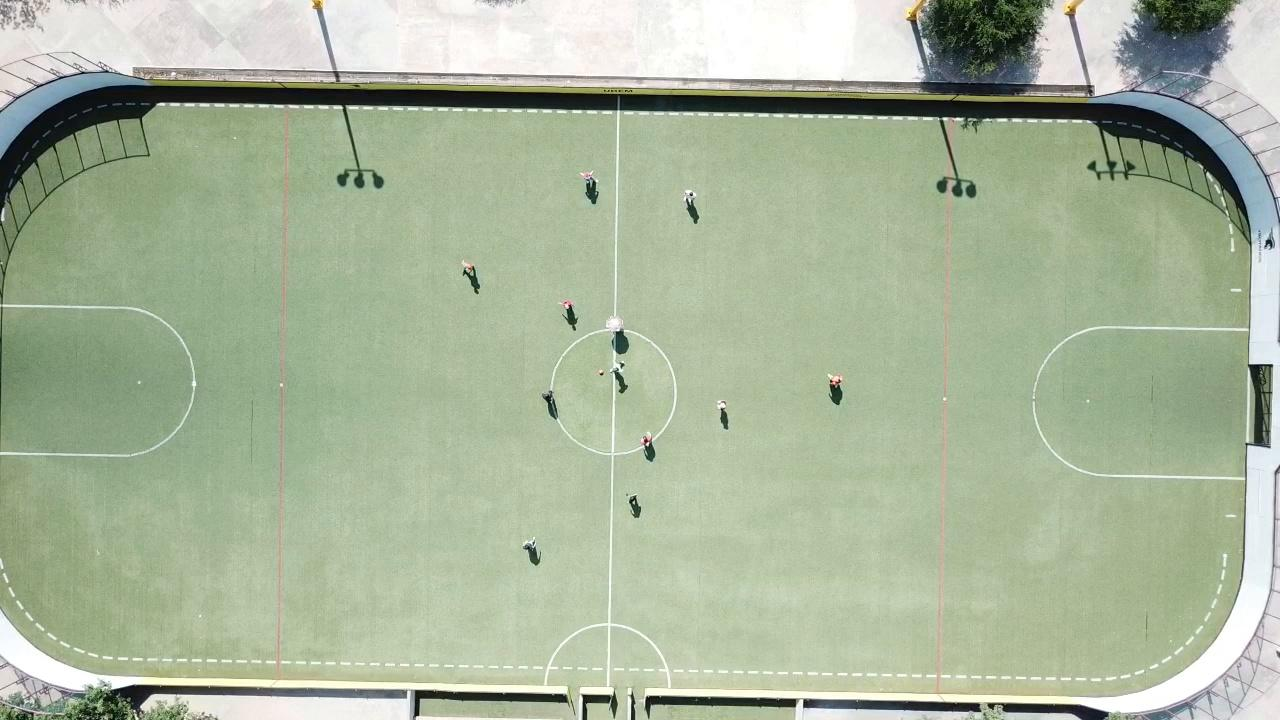ball: (598, 369, 604, 375)
player: (578, 170, 596, 191), (461, 260, 478, 282), (605, 316, 624, 333), (540, 388, 558, 403), (627, 492, 640, 512), (522, 538, 537, 554), (828, 373, 843, 389), (683, 189, 697, 206), (610, 360, 625, 375), (641, 432, 653, 448), (557, 300, 574, 311), (716, 401, 727, 412)
